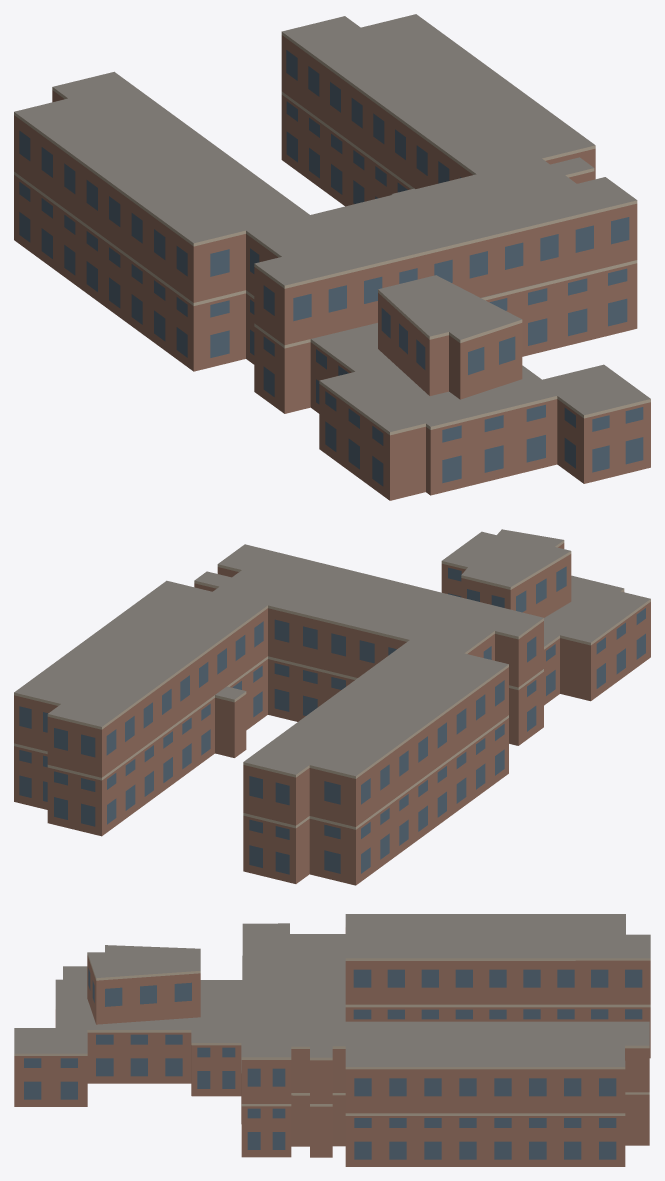
Rendered from dc-au-asbury-building.glb.
3 views of the same model, one above another, from view 1: azimuth 30°, elevation 25°; view 2: azimuth 150°, elevation 25°; view 3: azimuth 270°, elevation 25° (orthographic). The views are drawn at different scales.
Visible parts, largest first — view 1: Asbury Building; view 2: Asbury Building; view 3: Asbury Building.
Boxes of the visible parts, box(x1,y1,x2,y2) form: Asbury Building: box(14, 14, 650, 500); Asbury Building: box(14, 529, 650, 885); Asbury Building: box(14, 914, 650, 1166).
Bounding box in the file's own units: 41.69 × 12.7 × 73.31.
